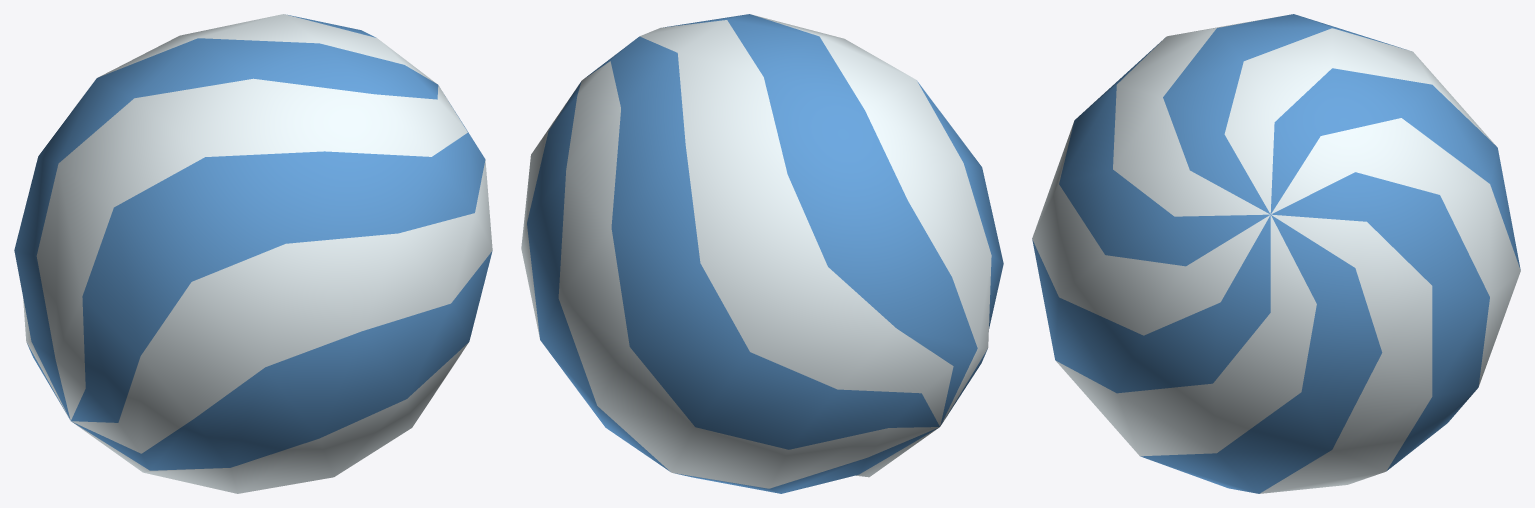
The model's file is candy_assets26.fbx.
3 views of the same model, side by side, from view 1: azimuth 30°, elevation 25°; view 2: azimuth 150°, elevation 25°; view 3: azimuth 270°, elevation 25° (orthographic). The views are drawn at different scales.
Visible parts, largest first — view 1: candy_assets26; view 2: candy_assets26; view 3: candy_assets26.
Boxes of the visible parts, bbox=[...] form: candy_assets26: bbox=[14, 14, 492, 493]; candy_assets26: bbox=[521, 14, 1003, 493]; candy_assets26: bbox=[1032, 14, 1520, 493].
Bounding box in the file's own units: 425 × 409 × 413.
1 material, 1 textured.
